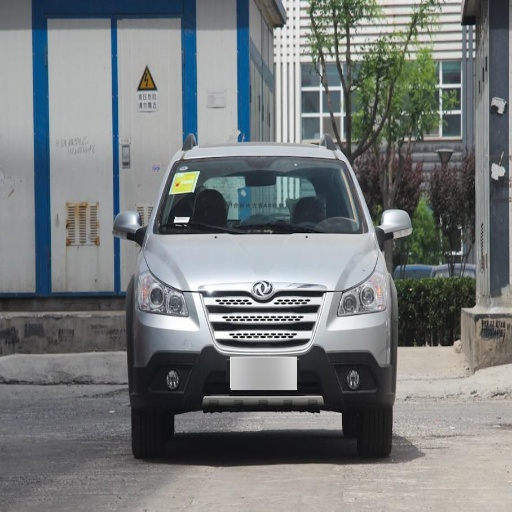front_bumper: (132, 279, 391, 412)
front_right_light: (137, 272, 194, 317)
hood: (144, 234, 377, 291)
